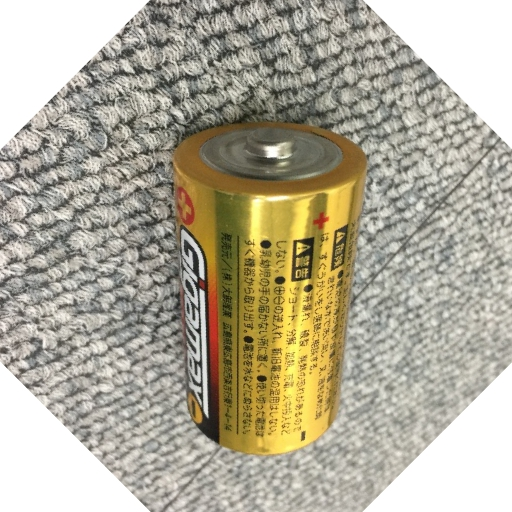Battery_0: (160, 105, 385, 461)
